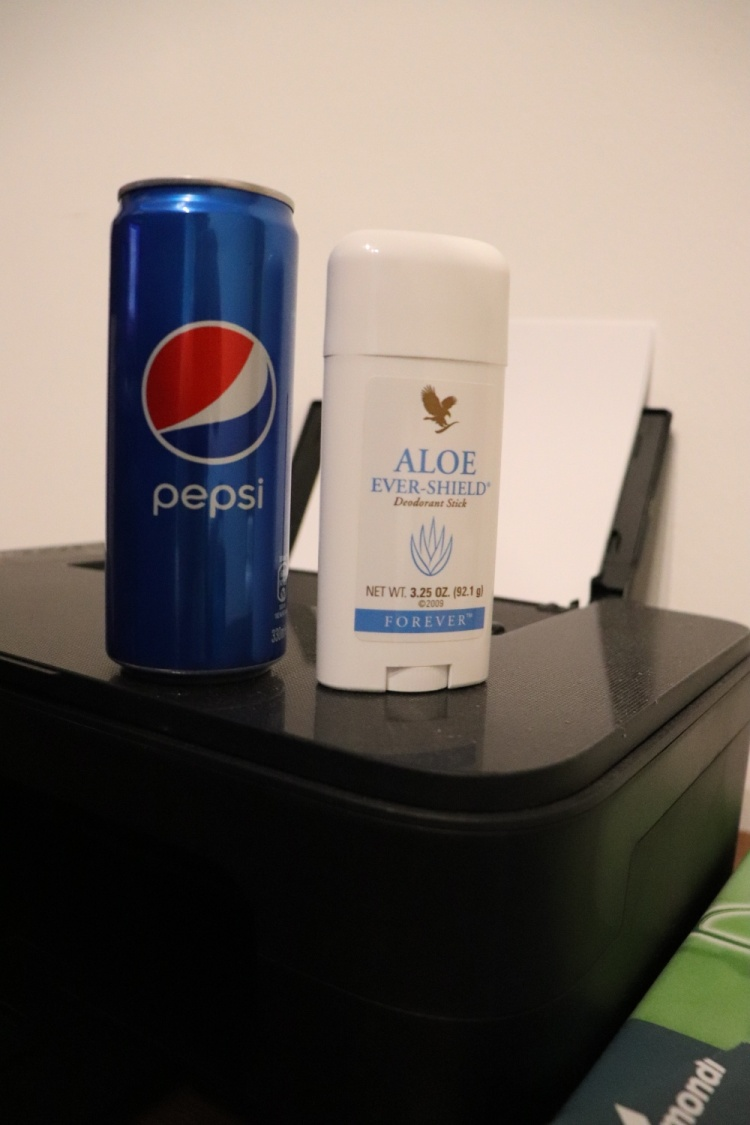pepsi: (91, 170, 296, 681)
